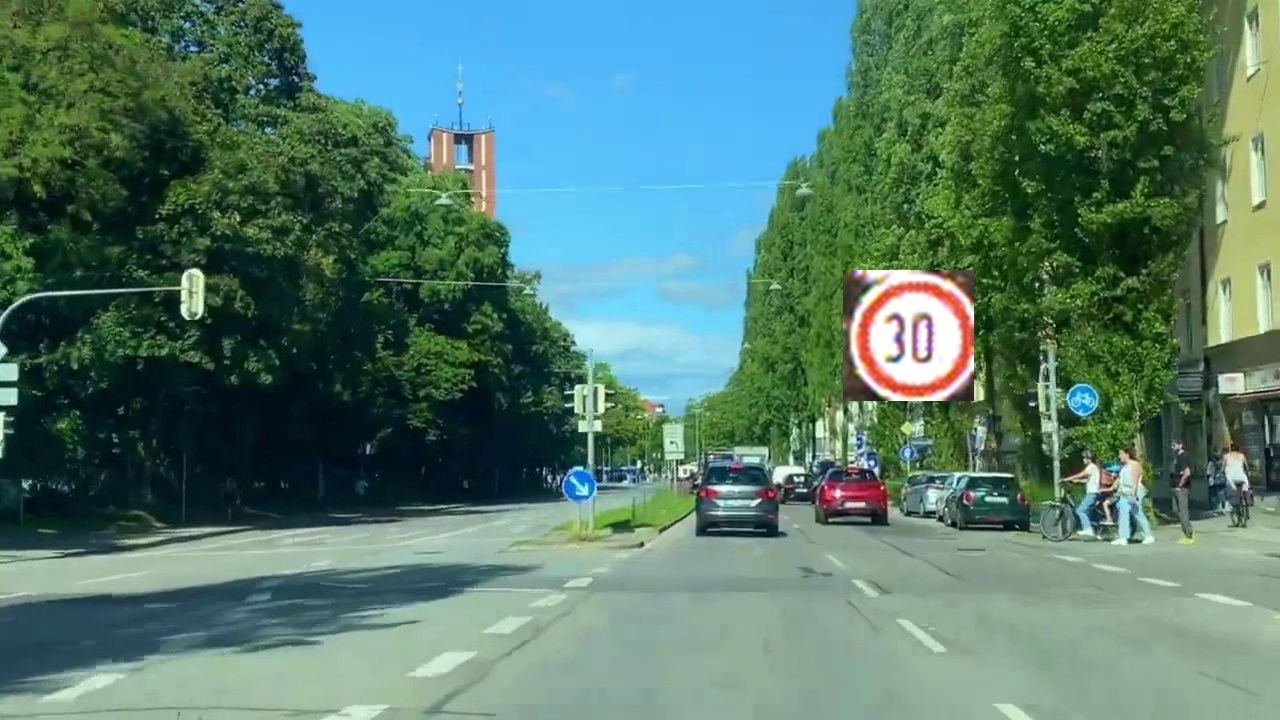Speed 30: (843, 270, 974, 401)
